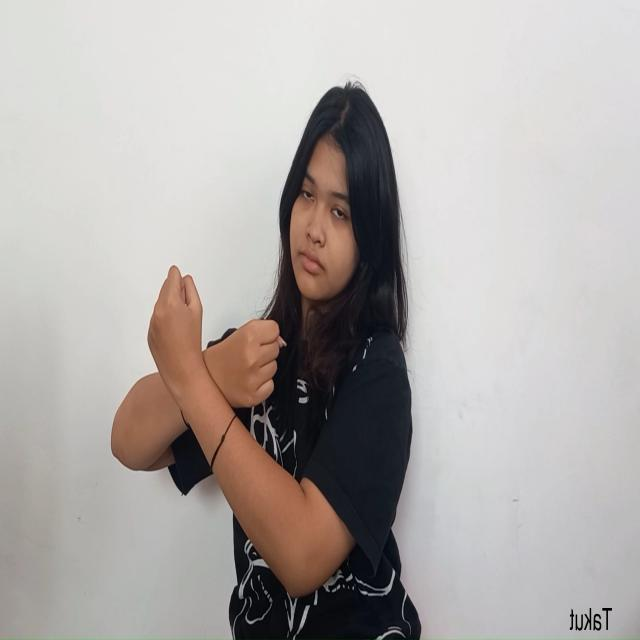Takut -BISINDO-: (147, 262, 286, 444)
